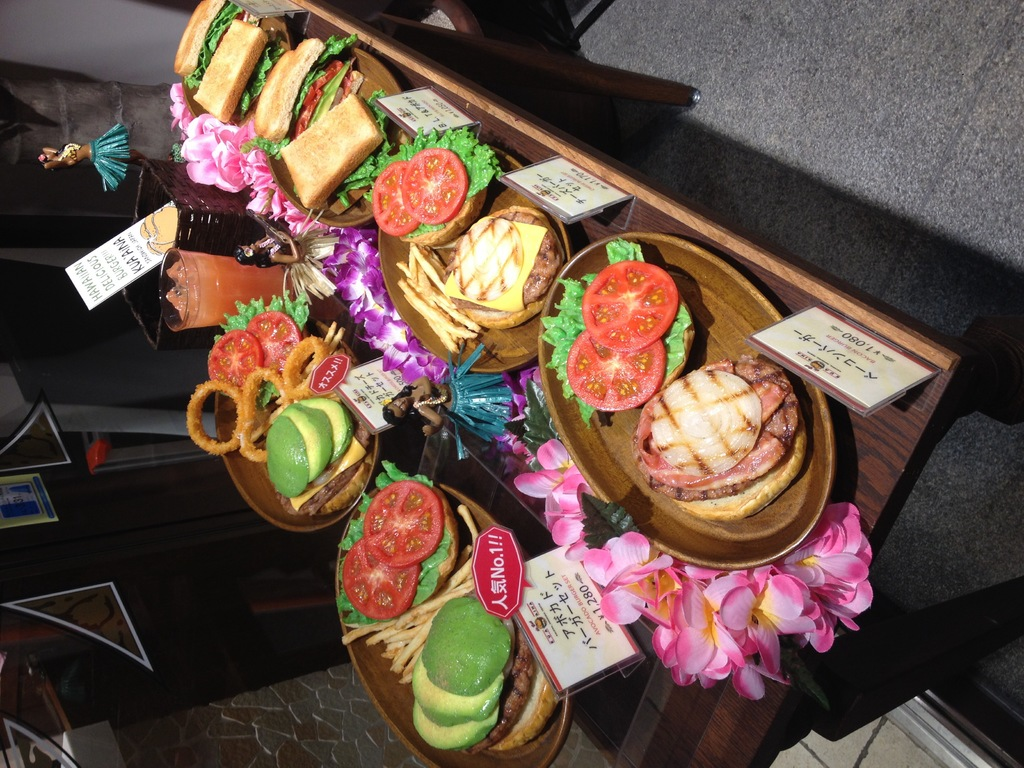Tomato: (564, 261, 662, 423), (368, 137, 472, 227)
